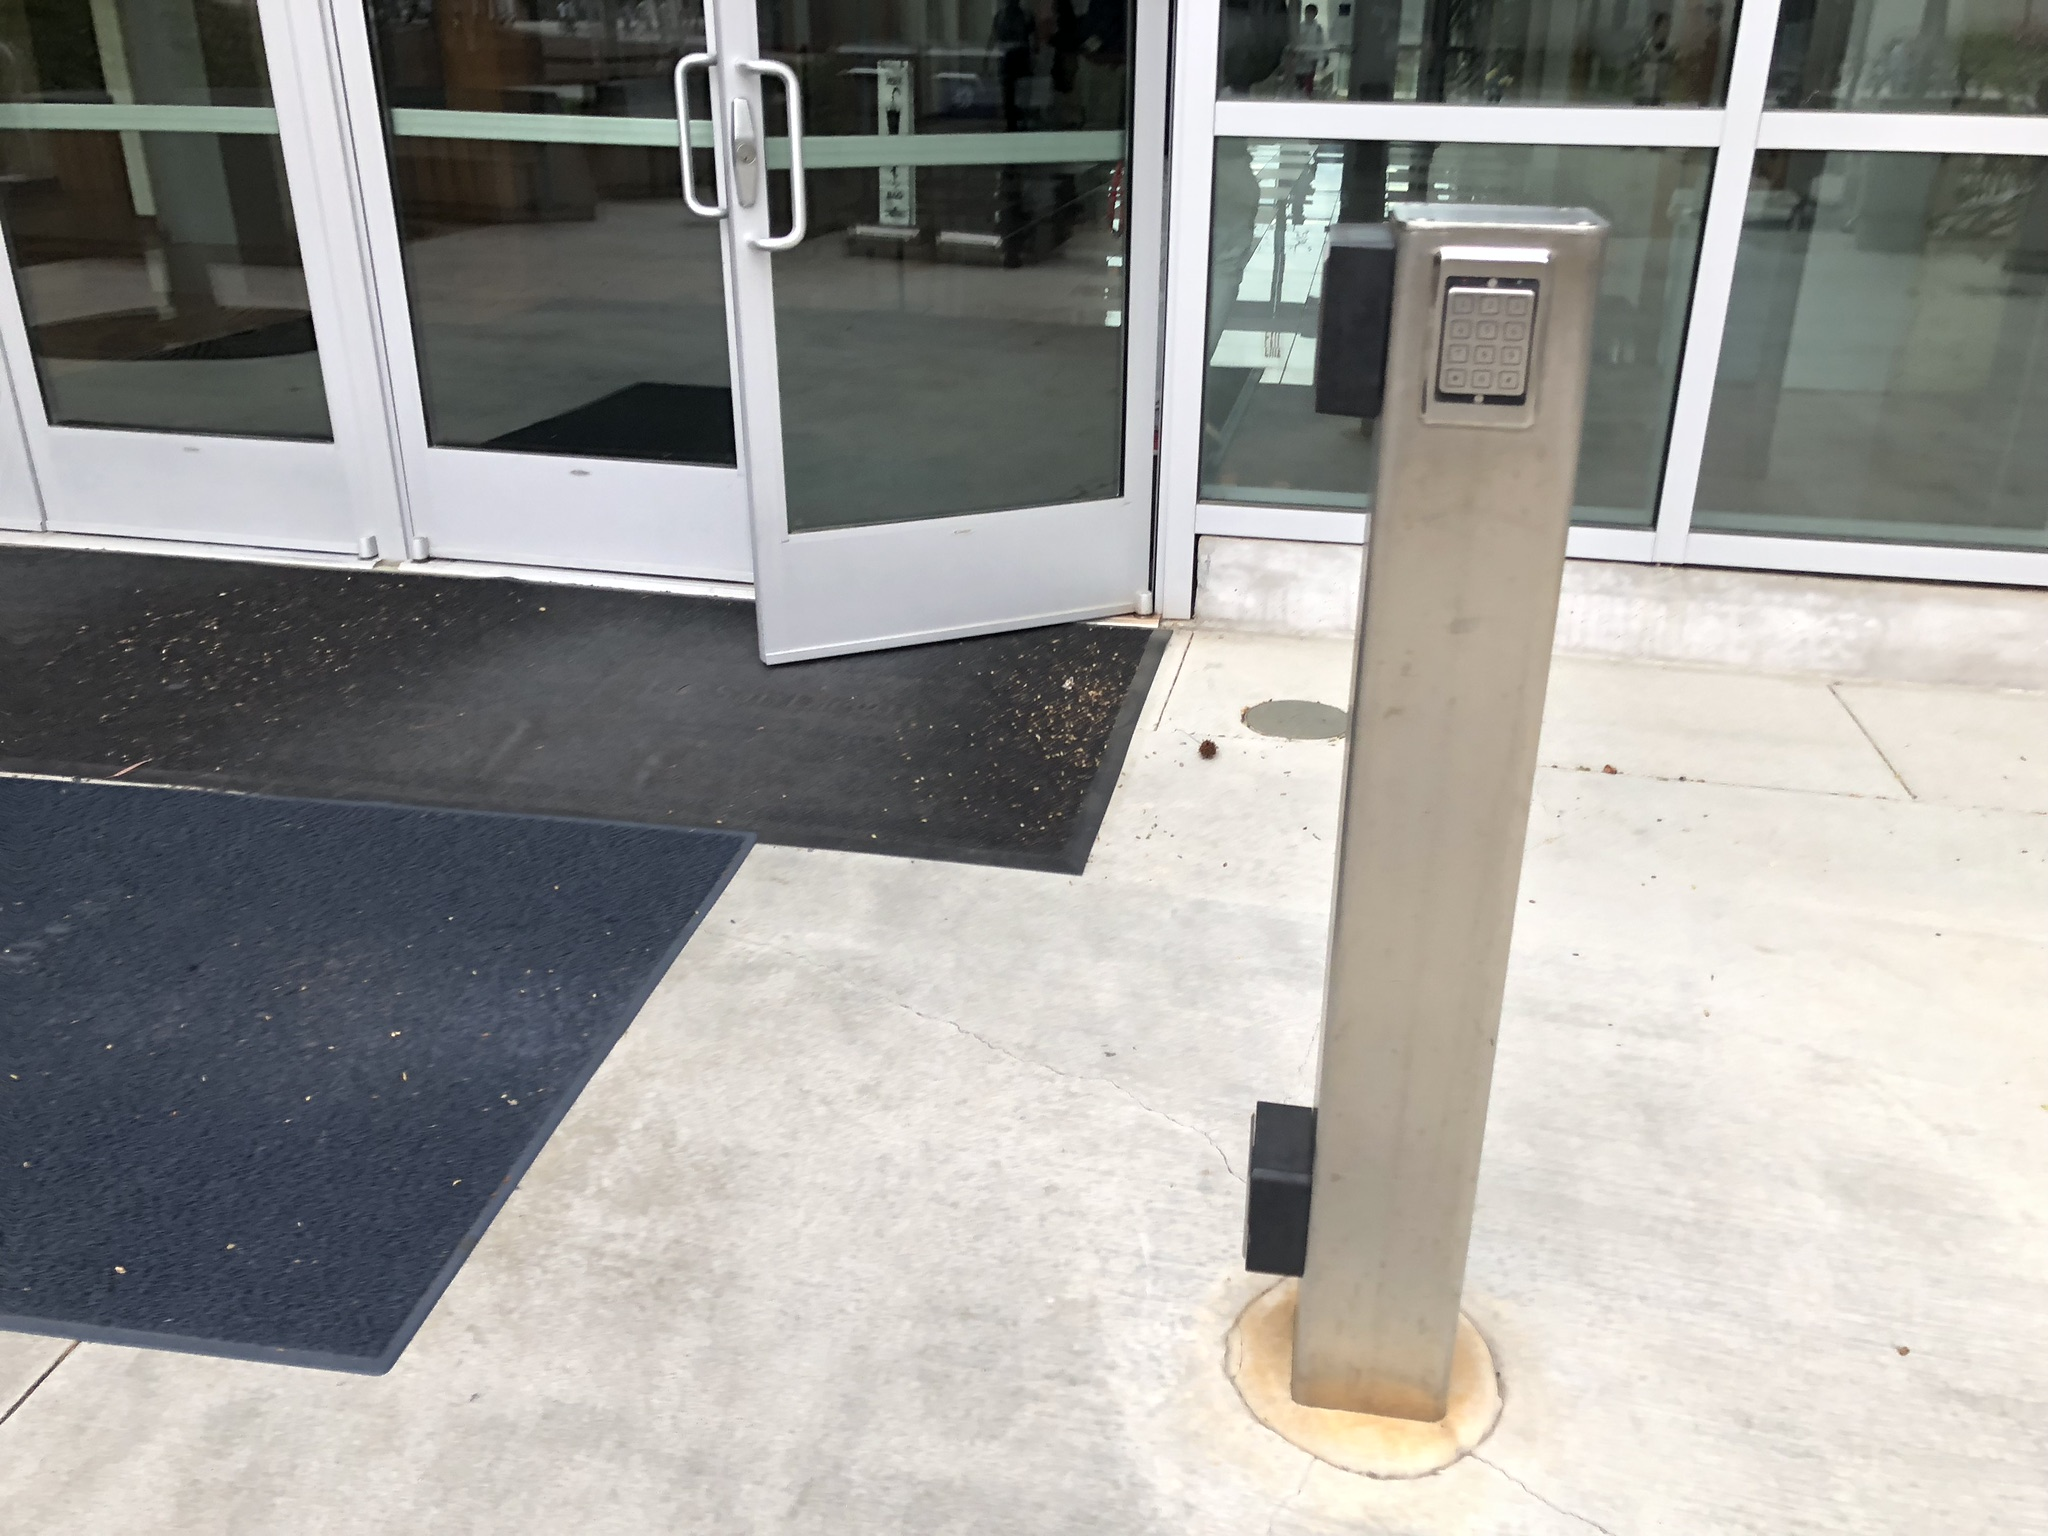Obstacle: (6, 10, 2045, 657), (1176, 186, 1727, 1483)
